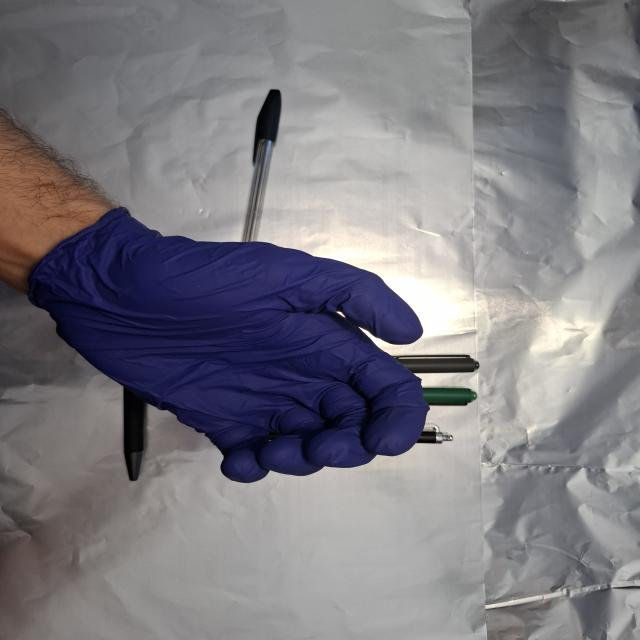glove_on: (39, 206, 433, 486)
